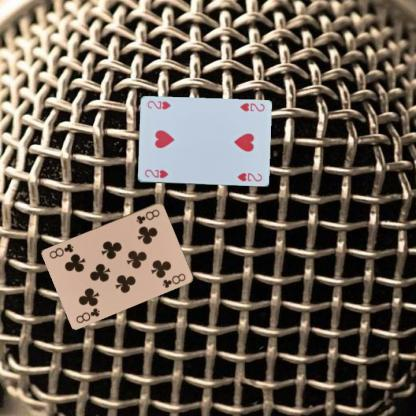2h: (142, 167, 169, 180), (237, 100, 265, 112)
8c: (73, 305, 101, 324), (134, 207, 160, 226)
